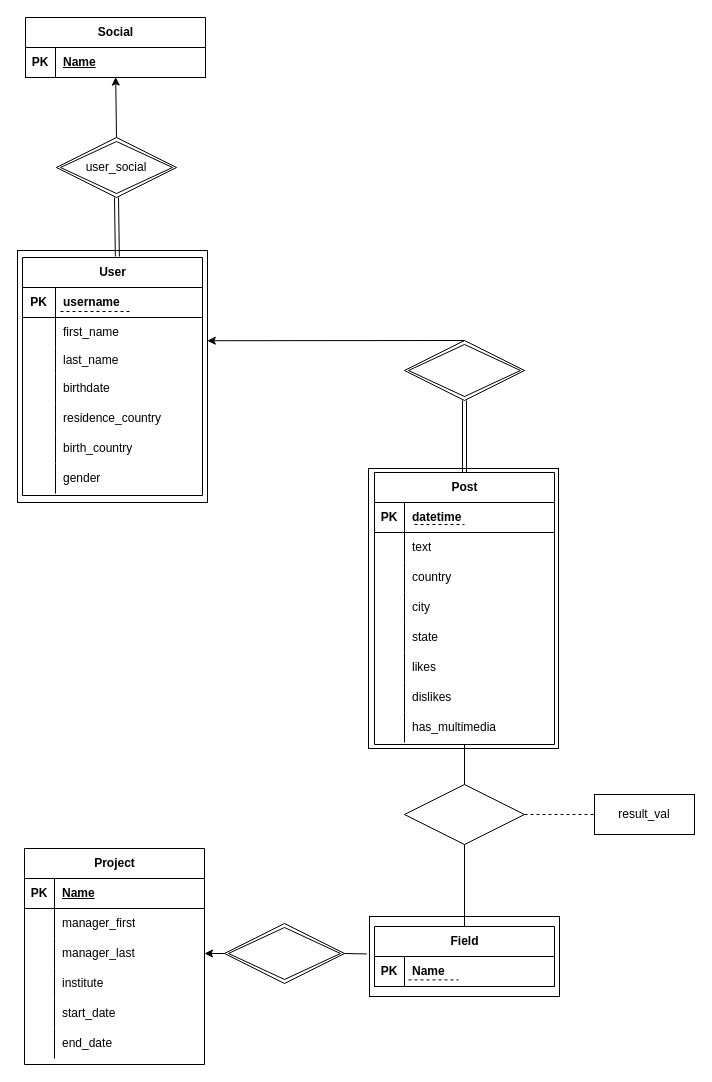
This 712x1082 diagram has some shape labels left out. The centre of each missing label's shape, as x and y in pixels:
field_project: (284,953)
field_result: (464,814)
user_post: (464,370)
